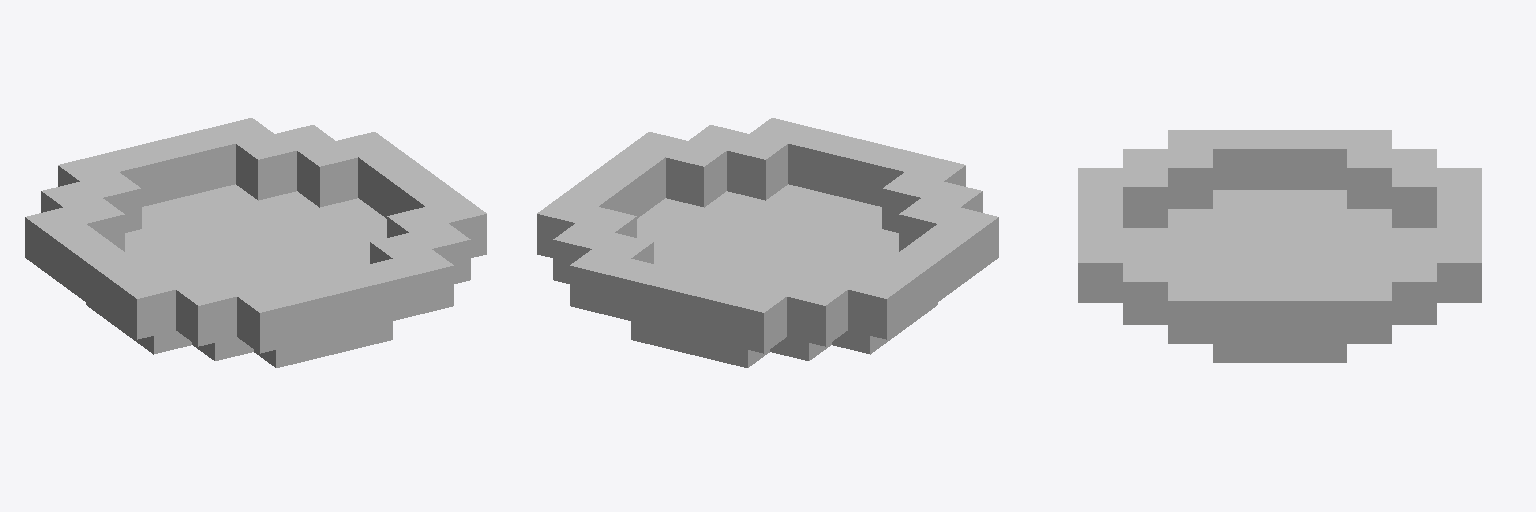
File: comedero vacio gato.obj
3 views of the same model, side by side, from view 1: azimuth 30°, elevation 25°; view 2: azimuth 150°, elevation 25°; view 3: azimuth 270°, elevation 25° (orthographic).
Parts seen in each view (by area): view 1: object 1; view 2: object 1; view 3: object 1.
Part boxes in pixels (x1,y1,x2,y2): object 1: (25, 118, 486, 367); object 1: (537, 118, 998, 367); object 1: (1078, 130, 1481, 362).
Bounding box in the file's own units: 0.9 × 0.2 × 0.9.